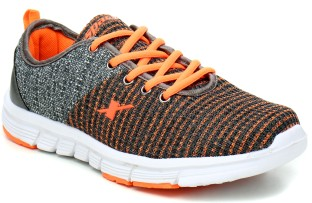Shoes: (4, 4, 312, 193)
